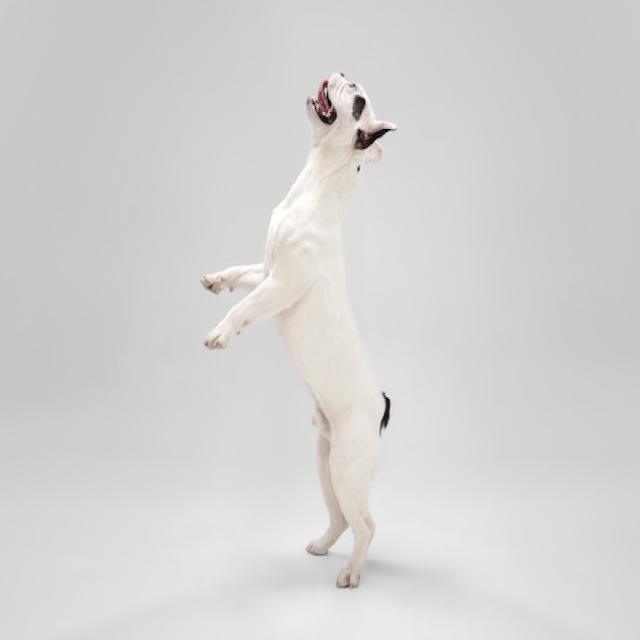Dog: (200, 70, 398, 590)
